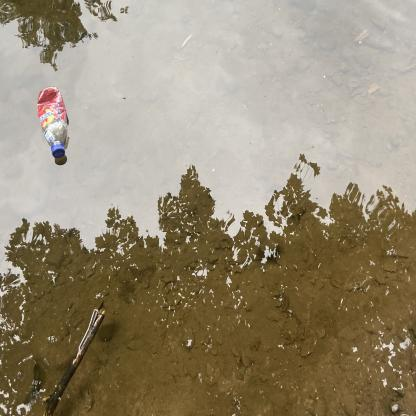trash: (31, 81, 74, 169)
